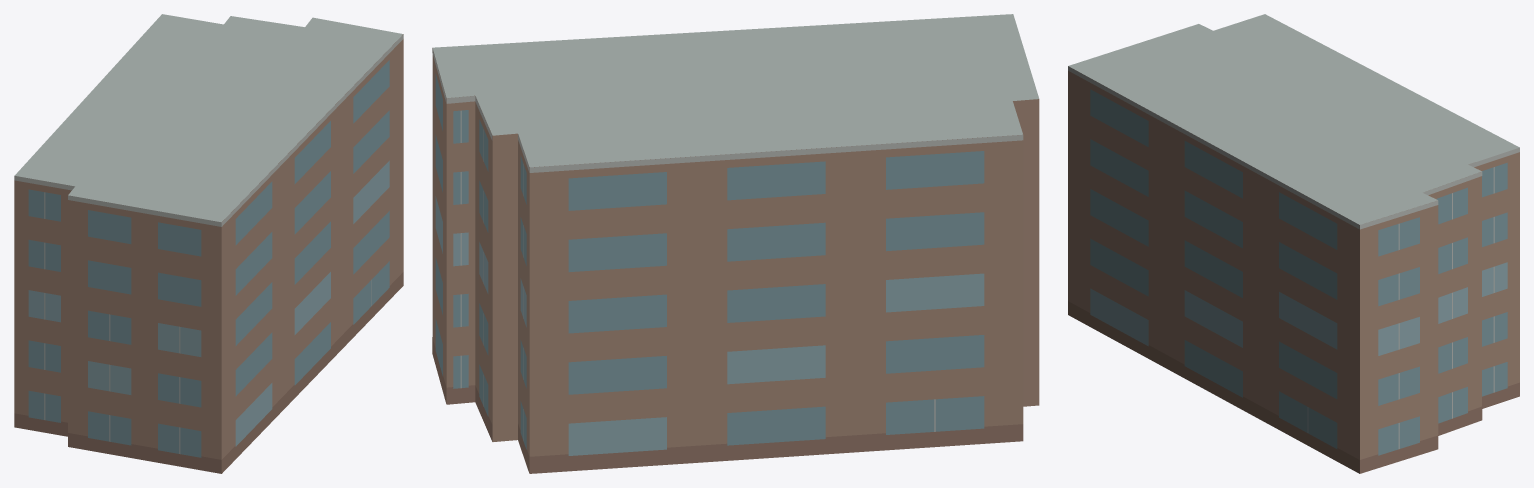
Rendered from survey-upis-32779652.glb.
3 renders of one model, left to right at view 1: azimuth 30°, elevation 25°; view 2: azimuth 150°, elevation 25°; view 3: azimuth 270°, elevation 25°, orthographic. The views are drawn at different scales.
Visible parts, largest first — view 1: survey-upis-32779652.tmp; view 2: survey-upis-32779652.tmp; view 3: survey-upis-32779652.tmp.
Boxes of the visible parts, left/top/right/bottom form: survey-upis-32779652.tmp: left=14, top=14, right=403, bottom=473; survey-upis-32779652.tmp: left=432, top=14, right=1039, bottom=473; survey-upis-32779652.tmp: left=1068, top=14, right=1519, bottom=473.
Size of the model in its own units: 23.96 by 13.18 by 21.68.
